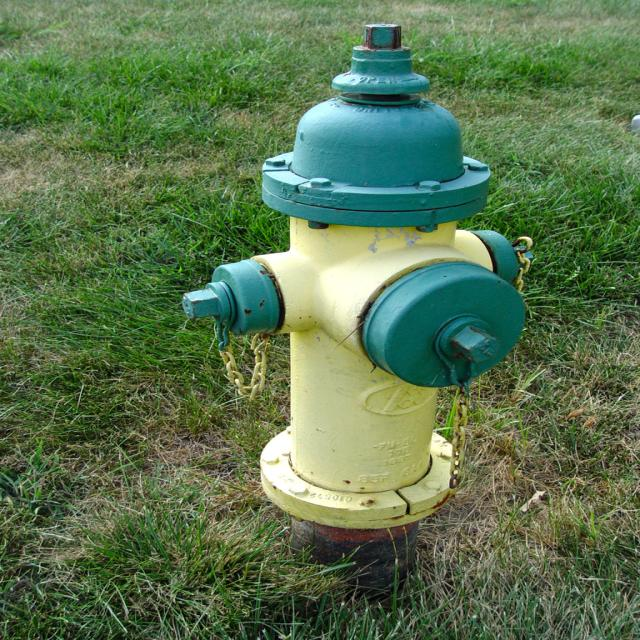fire_hydrant: (180, 27, 535, 590)
